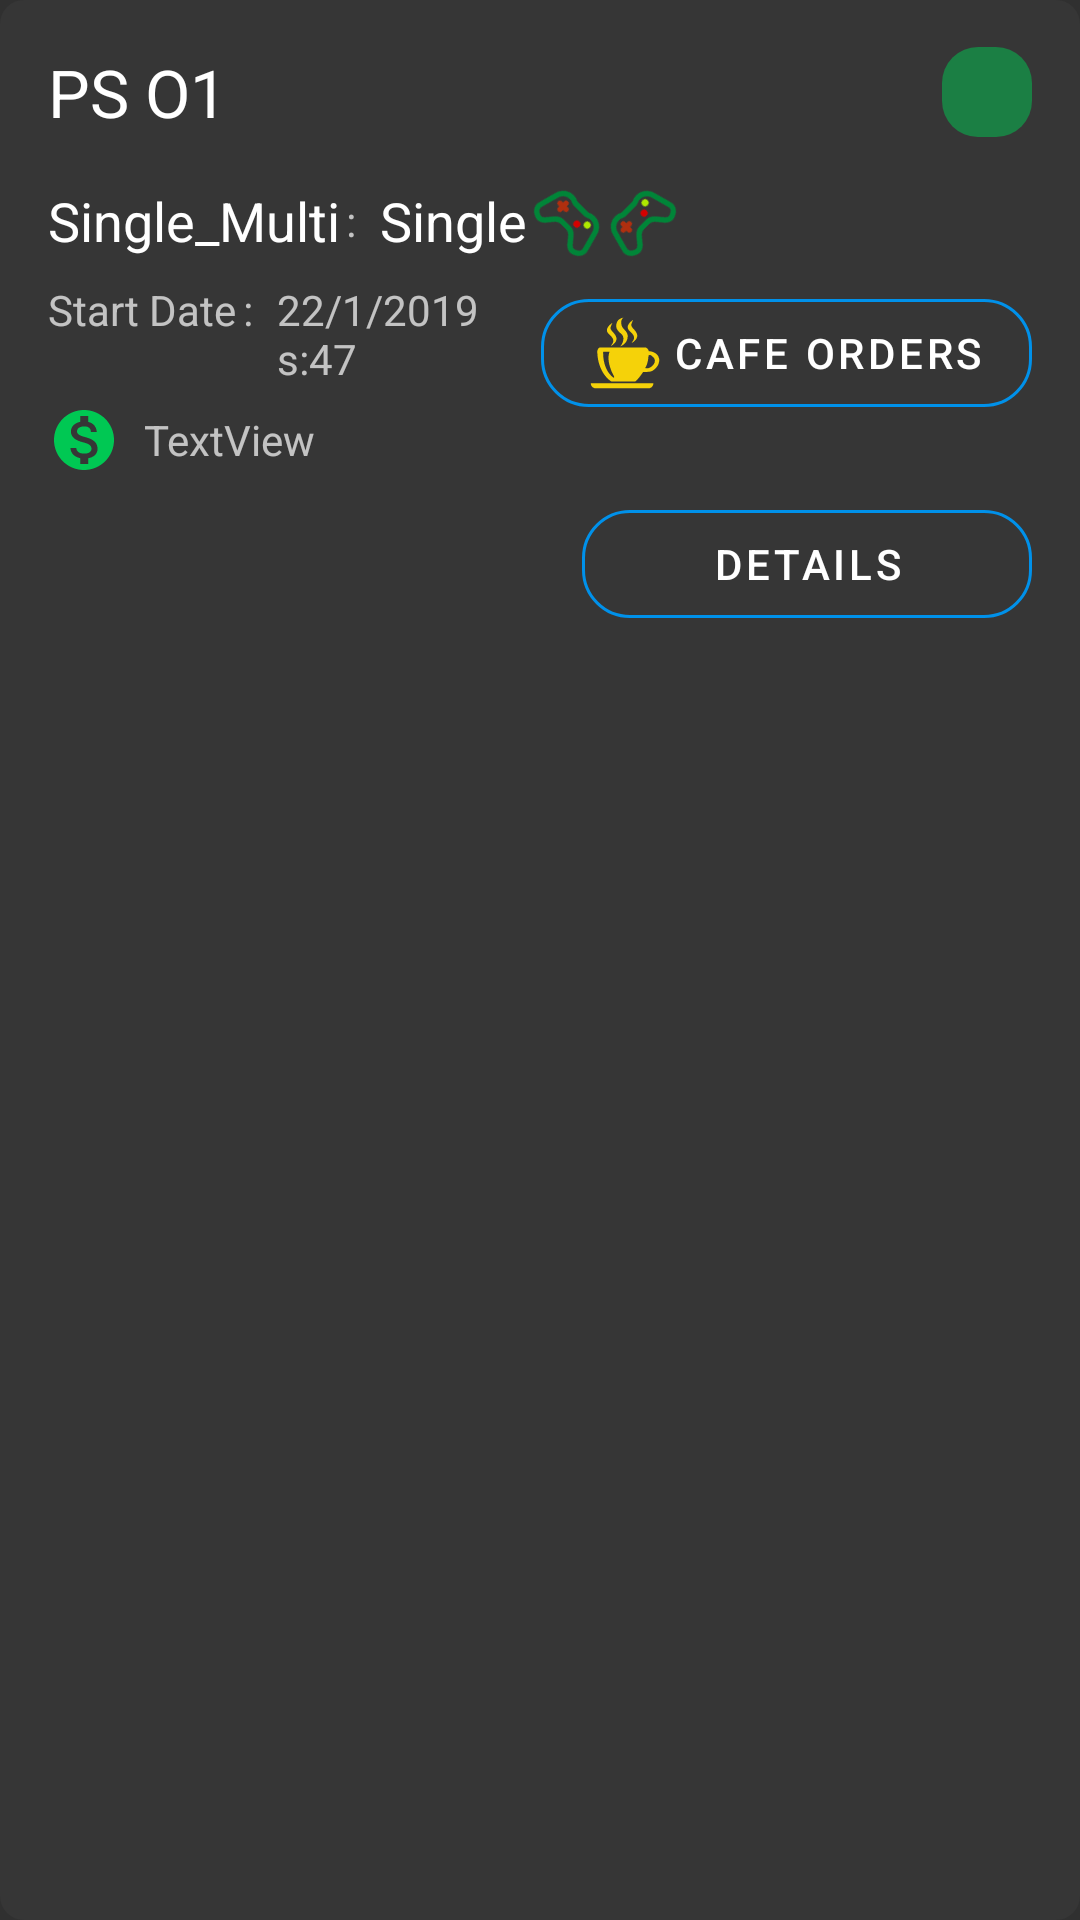

Icon click points for this 1080*1920 phone screenshot, format (x,y):
money: (84,440)
